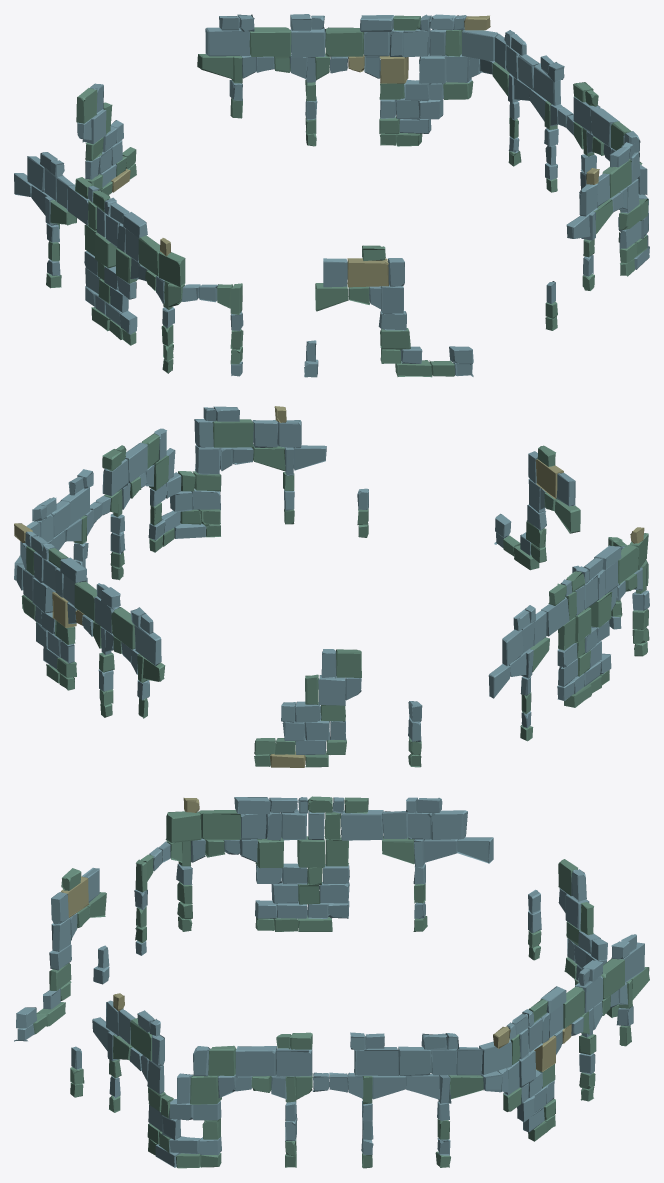
Rendered from InnerHexWall.fbx.
3 renders of one model, top to bottom at view 1: azimuth 30°, elevation 25°; view 2: azimuth 150°, elevation 25°; view 3: azimuth 270°, elevation 25°, orthographic. The views are drawn at different scales.
Visible parts, largest first — view 1: InnerWall; view 2: InnerWall; view 3: InnerWall.
Part boxes in pixels (x1,y1,x2,y2): InnerWall: [14, 14, 649, 377]; InnerWall: [14, 406, 649, 767]; InnerWall: [14, 796, 649, 1168].
Size of the model in its own units: 3553 by 907 by 3940.
